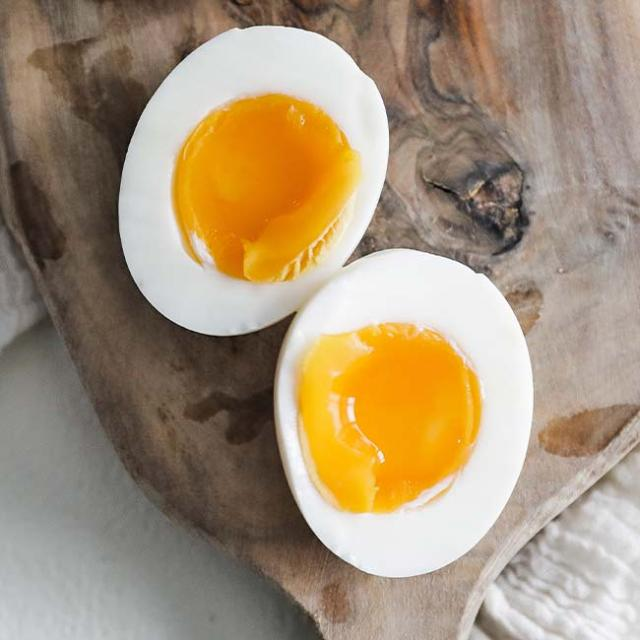eggs: (140, 46, 526, 539)
